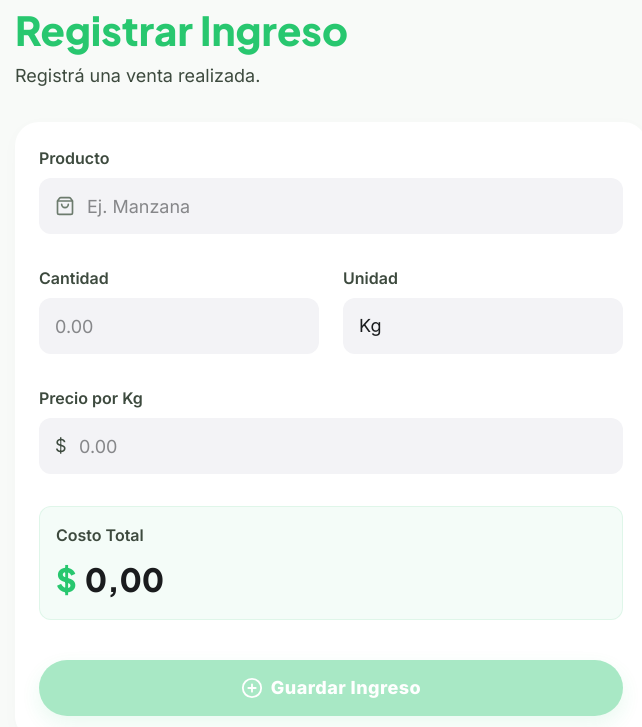
Test case: TransactionForm - autocomplete unit auto-fill › auto-fills unit to Unidad and price when selecting a product with unit Unidad
In the field with placeholder "Ej. Manzana": point(331, 206) x1=39 y1=178 x2=623 y2=234, type "Hue"
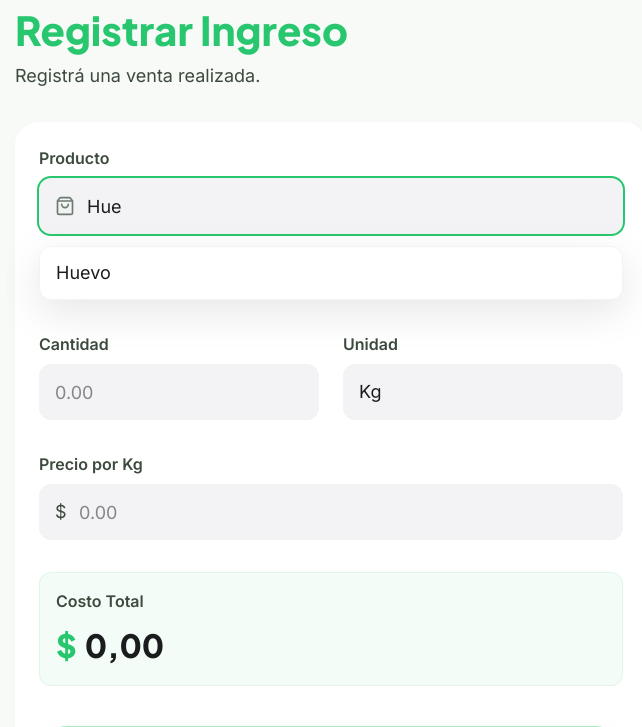
Click the button "Huevo": point(83, 272) x1=40 y1=247 x2=622 y2=299
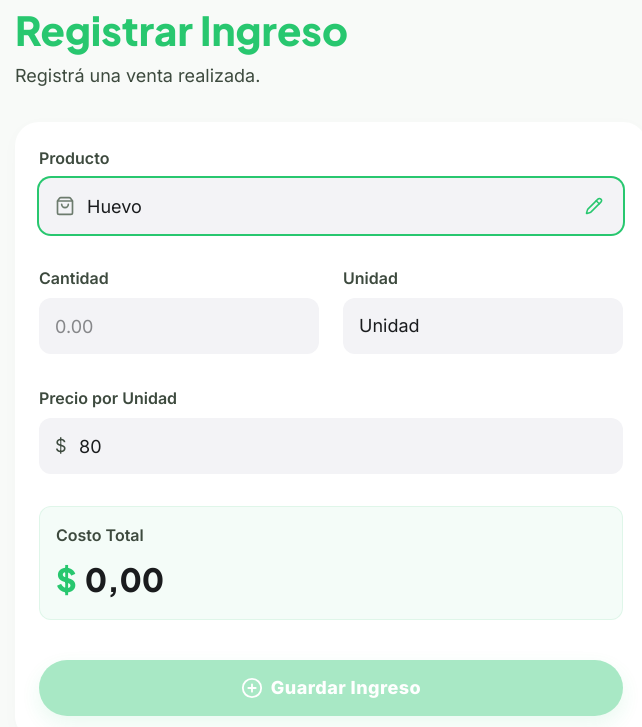
Result: the dropdown shows "Unidad" at x1=343 y1=298 x2=623 y2=354
Result: the 2nd number field holds "80" at x1=39 y1=418 x2=623 y2=474
